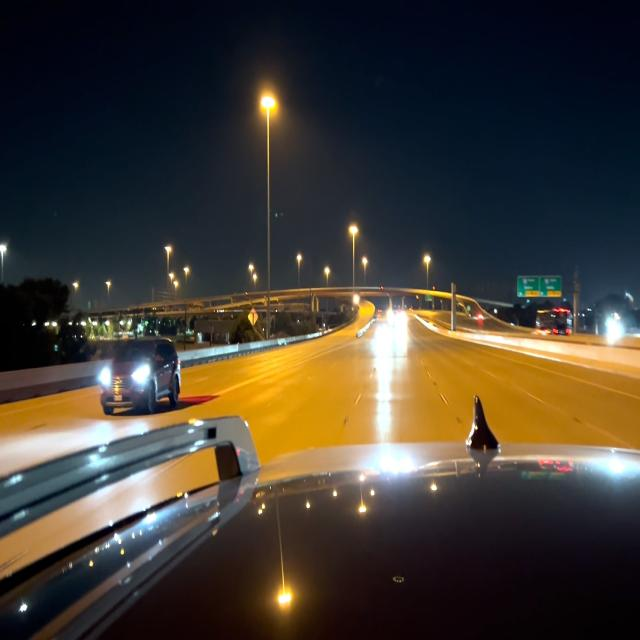back-of-sign: (248, 308, 258, 326)
